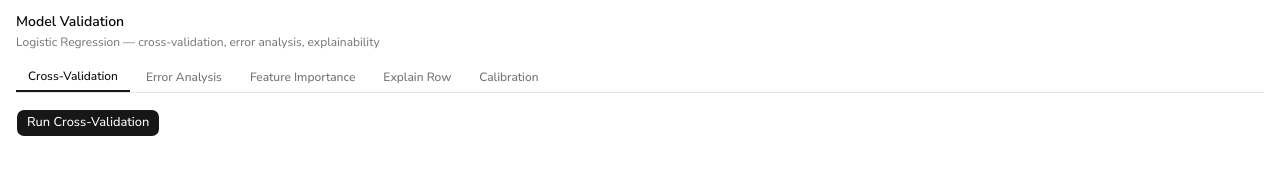
Test: Calibration tab › explains why calibration is not available
Click the tab "Calibration" at (509, 77), box left=467, top=62, right=550, bottom=92
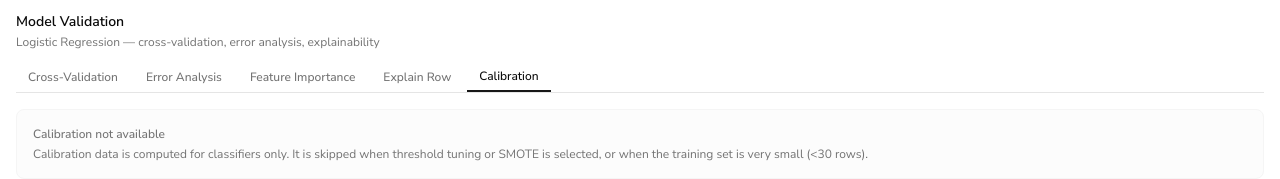
Check: the text "classifiers only" is shown, box left=33, top=146, right=868, bottom=162
